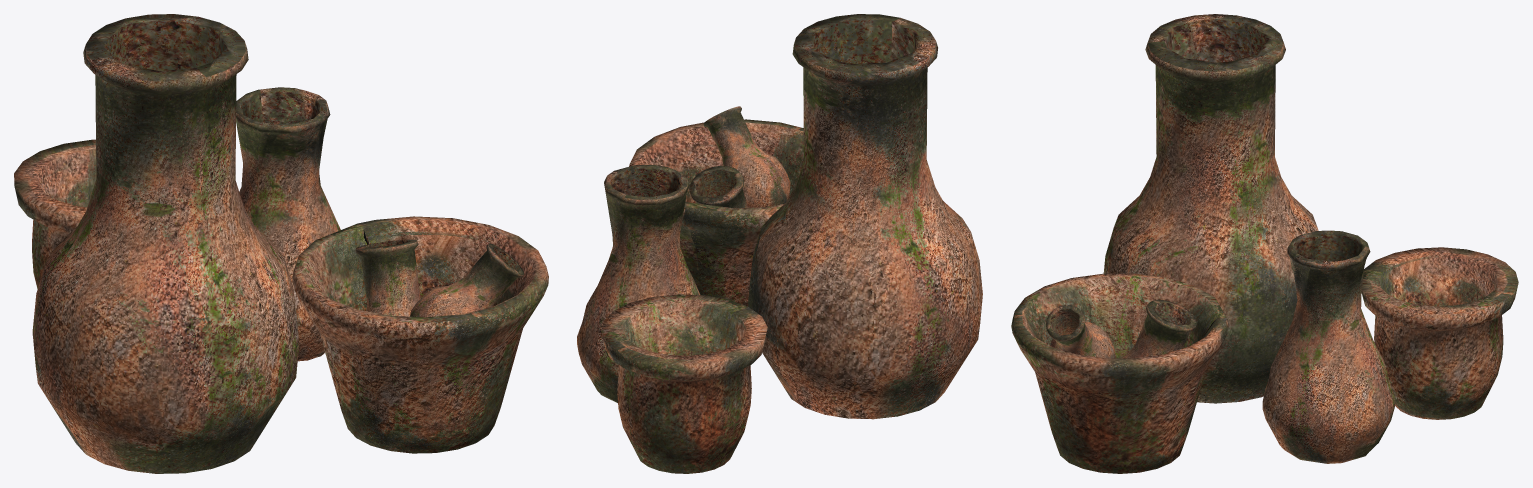
File: market_pots.glb
3 views of the same model, side by side, from view 1: azimuth 30°, elevation 25°; view 2: azimuth 150°, elevation 25°; view 3: azimuth 270°, elevation 25° (orthographic). The views are drawn at different scales.
Visible parts, largest first — view 1: Cylinder.001_3, Cylinder_2, Cylinder.003_5, Cylinder.004_6, Cylinder.002_4, Cylinder.005_7; view 2: Cylinder.001_3, Cylinder.004_6, Cylinder.003_5, Cylinder_2, Cylinder.005_7, Cylinder.002_4; view 3: Cylinder.001_3, Cylinder_2, Cylinder.003_5, Cylinder.004_6, Cylinder.002_4, Cylinder.005_7.
Part boxes in pixels (box(x1,y1,x2,y2)): Cylinder.001_3: box(32, 14, 299, 473); Cylinder_2: box(292, 216, 548, 453); Cylinder.003_5: box(236, 87, 340, 361); Cylinder.004_6: box(14, 139, 96, 288); Cylinder.002_4: box(355, 239, 420, 316); Cylinder.005_7: box(410, 243, 524, 317); Cylinder.001_3: box(748, 14, 982, 419); Cylinder.004_6: box(601, 294, 767, 473); Cylinder.003_5: box(577, 165, 700, 402); Cylinder_2: box(629, 119, 803, 306); Cylinder.005_7: box(703, 106, 790, 207); Cylinder.002_4: box(689, 165, 747, 208); Cylinder.001_3: box(1103, 14, 1318, 403); Cylinder_2: box(1011, 273, 1228, 473); Cylinder.003_5: box(1262, 230, 1395, 463); Cylinder.004_6: box(1361, 247, 1518, 419); Cylinder.002_4: box(1118, 299, 1196, 358); Cylinder.005_7: box(1046, 304, 1115, 358).
Bounding box in the file's own units: 2.27 × 1.99 × 2.78.
2 materials, 2 textured.
